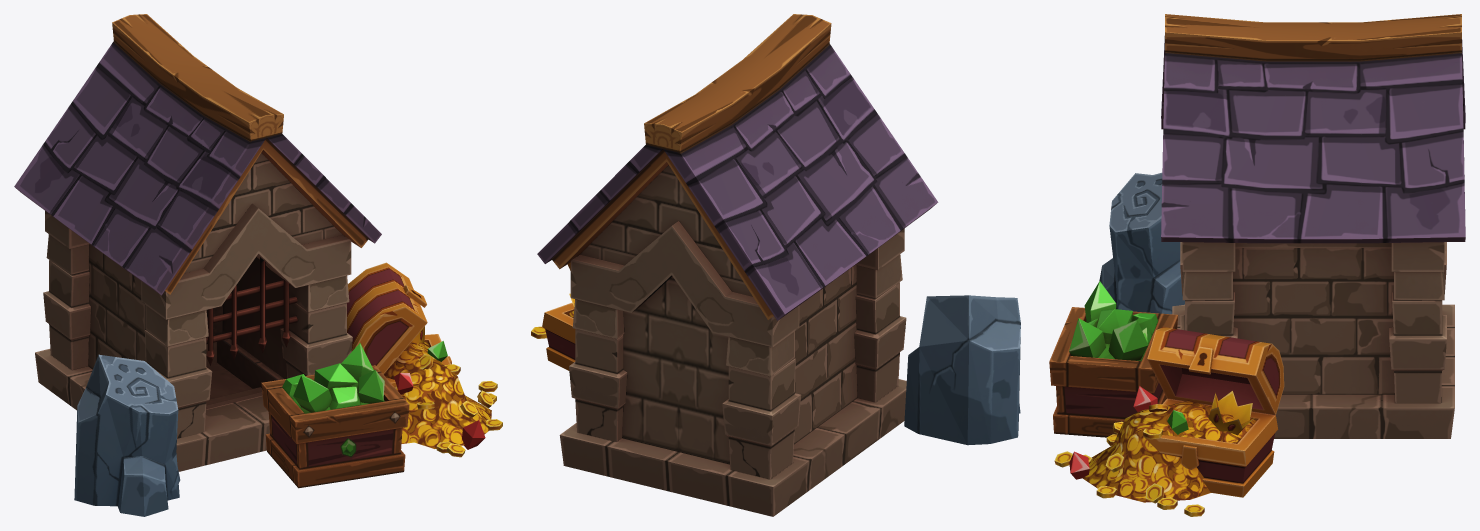
The model's file is building_12.FBX.
3 views of the same model, side by side, from view 1: azimuth 30°, elevation 25°; view 2: azimuth 150°, elevation 25°; view 3: azimuth 270°, elevation 25° (orthographic). The views are drawn at different scales.
Visible parts, largest first — view 1: Box002; view 2: Box002; view 3: Box002.
Part boxes in pixels (left/top/right/bottom): Box002: left=14, top=14, right=502, bottom=516; Box002: left=531, top=14, right=1020, bottom=516; Box002: left=1049, top=14, right=1465, bottom=516.
Bounding box in the file's own units: 698 × 528 × 536.
